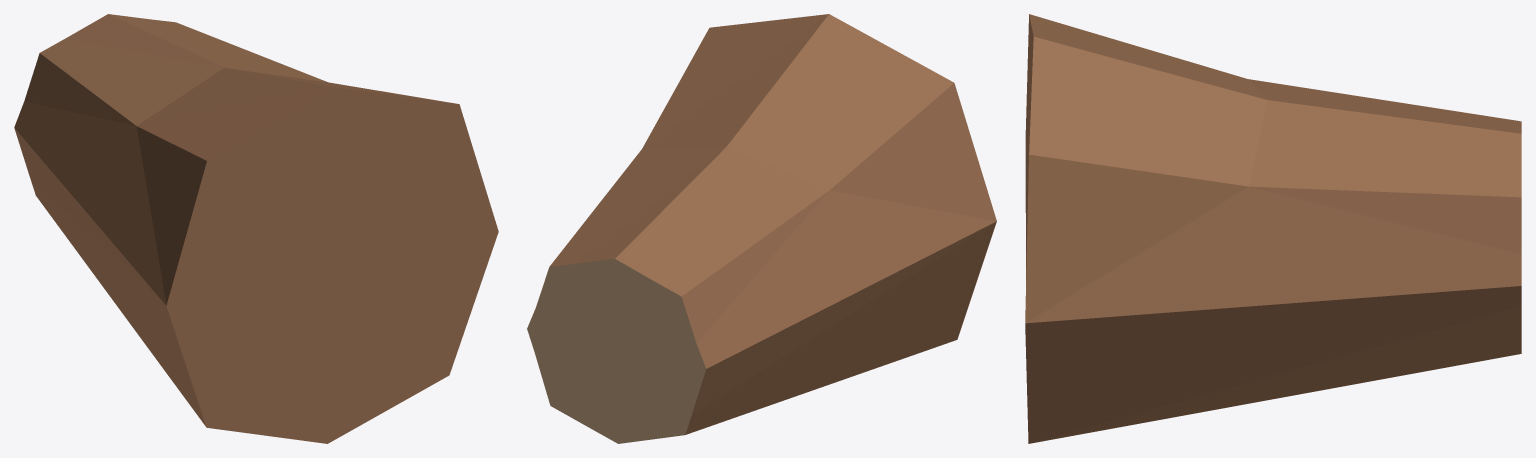
Rendered from stump02a.fbx.
3 renders of one model, left to right at view 1: azimuth 30°, elevation 25°; view 2: azimuth 150°, elevation 25°; view 3: azimuth 270°, elevation 25°, orthographic. The views are drawn at different scales.
Visible parts, largest first — view 1: Tree; view 2: Tree; view 3: Tree.
Boxes of the visible parts, x1,y1,x2,y2 form: Tree: [14, 14, 498, 443]; Tree: [527, 14, 996, 443]; Tree: [1025, 14, 1521, 443].
Bounding box in the file's own units: 0.3781 × 0.3854 × 0.4458.
